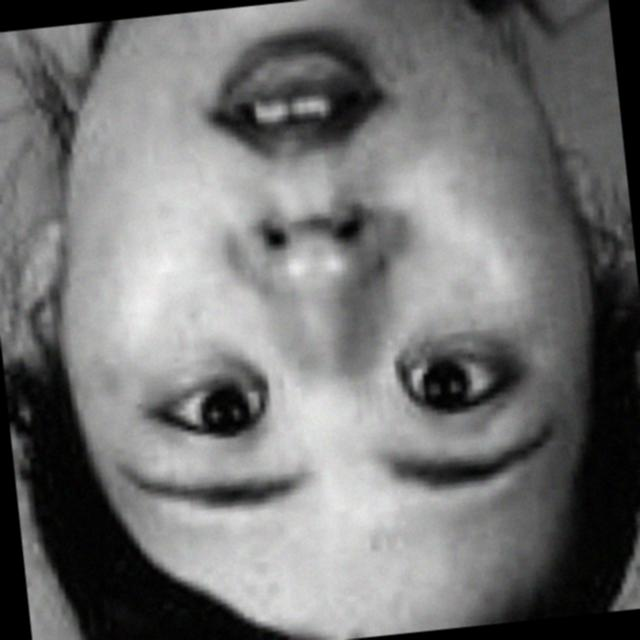fear: (52, 0, 584, 590)
